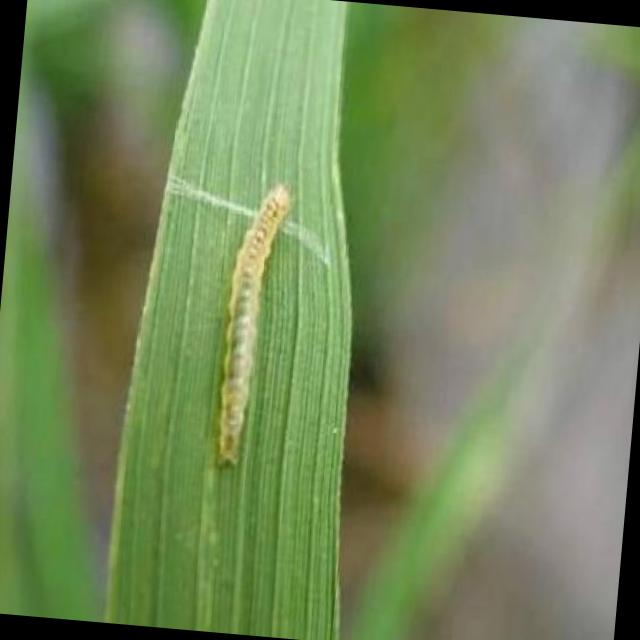leaf-folder: (192, 156, 306, 483)
